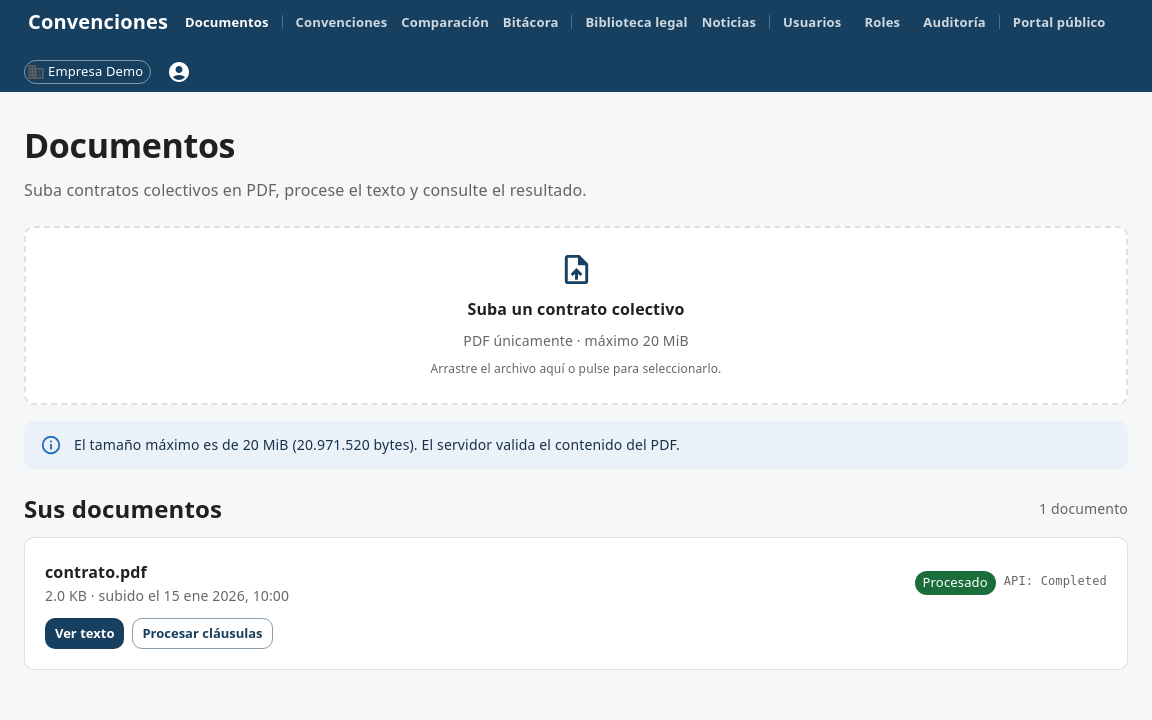
Scenario: ClauseProcessingDialog › shows clauses and records a review decision
What coordinates should you click on to do the following:
click the button "Procesar cláusulas"
I would click on:
 (202, 633)
Its box is left=132, top=618, right=272, bottom=649.
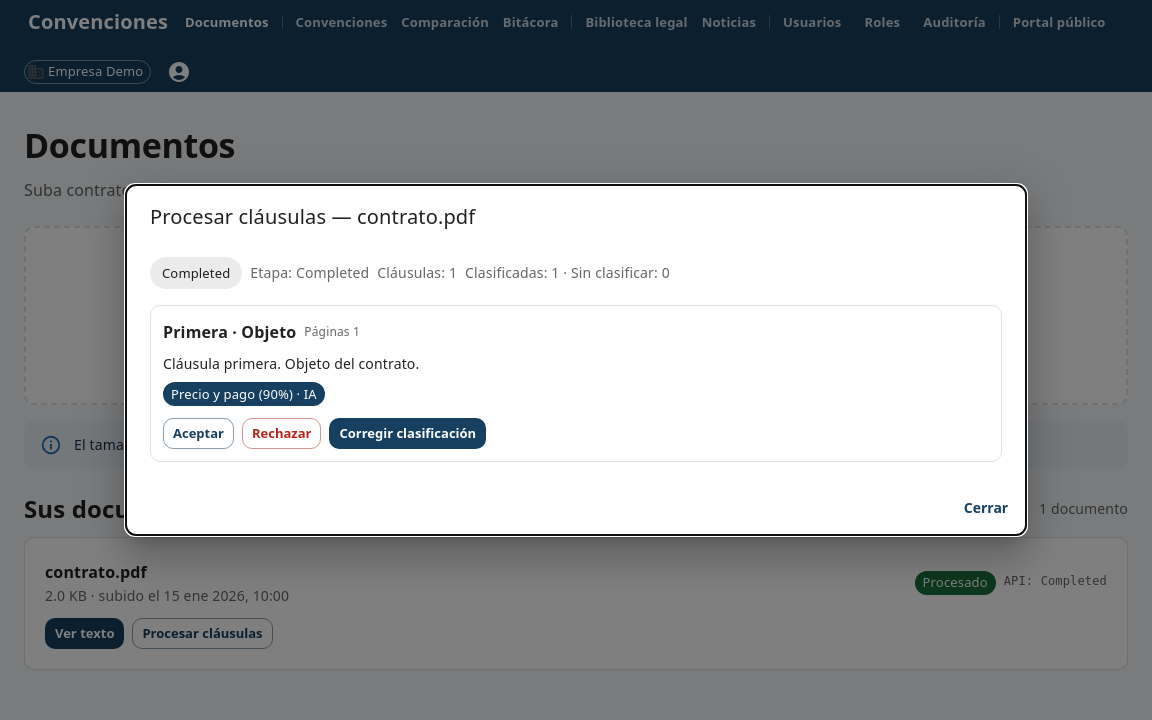
Expected: the text "Cláusula primera. Objeto del contrato." is shown, left=163, top=354, right=419, bottom=373
Expected: the text "Precio y pago (90%) · IA" is shown, left=163, top=385, right=325, bottom=404
What coordinates should you click on to do the following:
click the button "Aceptar"
I would click on:
 (198, 434)
Its box is left=163, top=418, right=234, bottom=449.
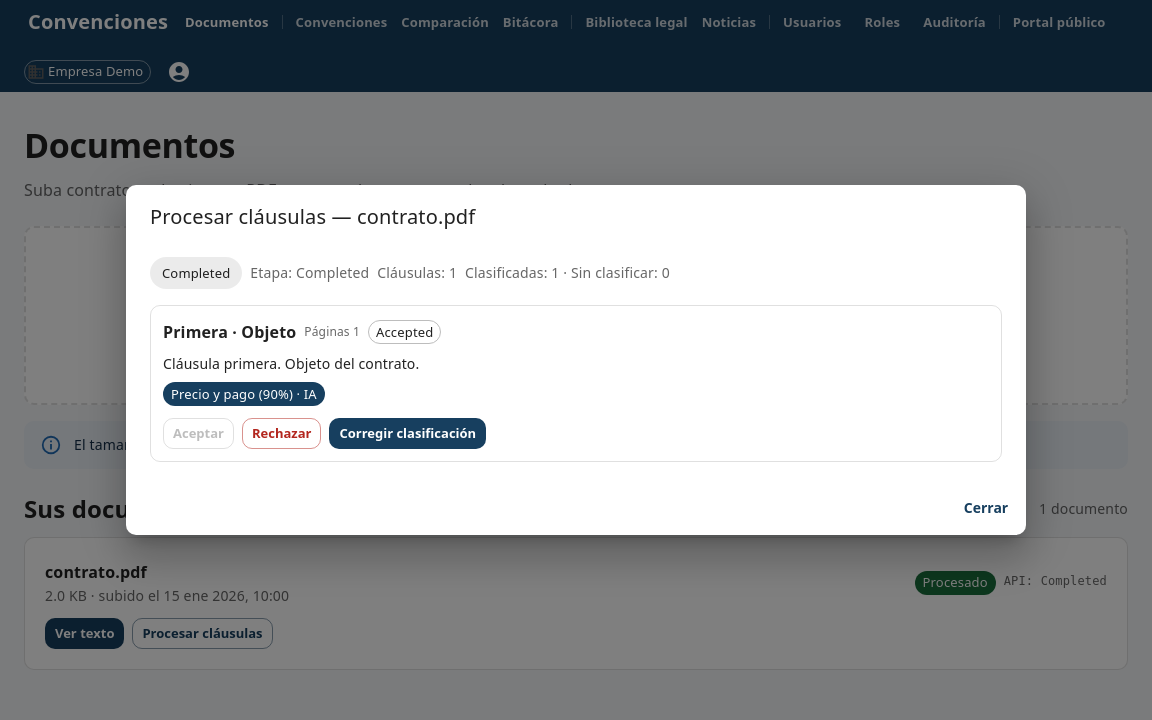
Expected: the text "Accepted" is shown, left=376, top=323, right=433, bottom=341
